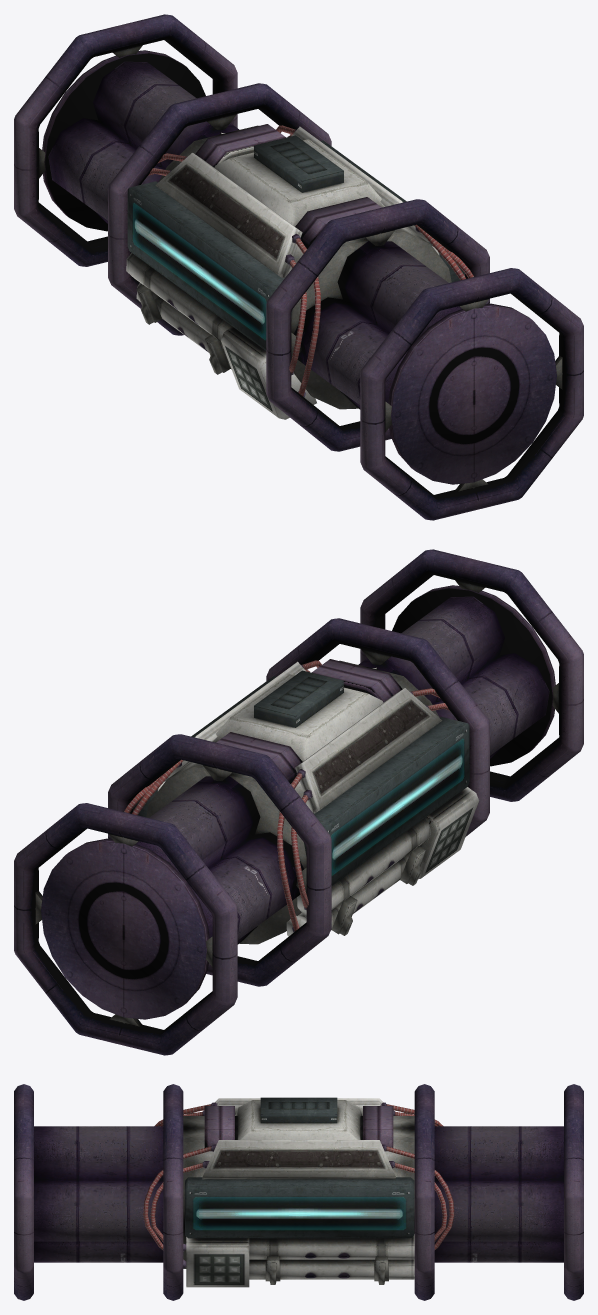
Rendered from GethBomb01.FBX.
3 views of the same model, one above another, from view 1: azimuth 30°, elevation 25°; view 2: azimuth 150°, elevation 25°; view 3: azimuth 270°, elevation 25° (orthographic). The views are drawn at different scales.
Parts seen in each view (by area): view 1: GethBomb01; view 2: GethBomb01; view 3: GethBomb01.
Part boxes in pixels (x1,y1,x2,y2): GethBomb01: (14, 14, 583, 520); GethBomb01: (14, 549, 583, 1055); GethBomb01: (14, 1084, 583, 1300).
Bounding box in the file's own units: 4.11 × 4.11 × 11.61.
